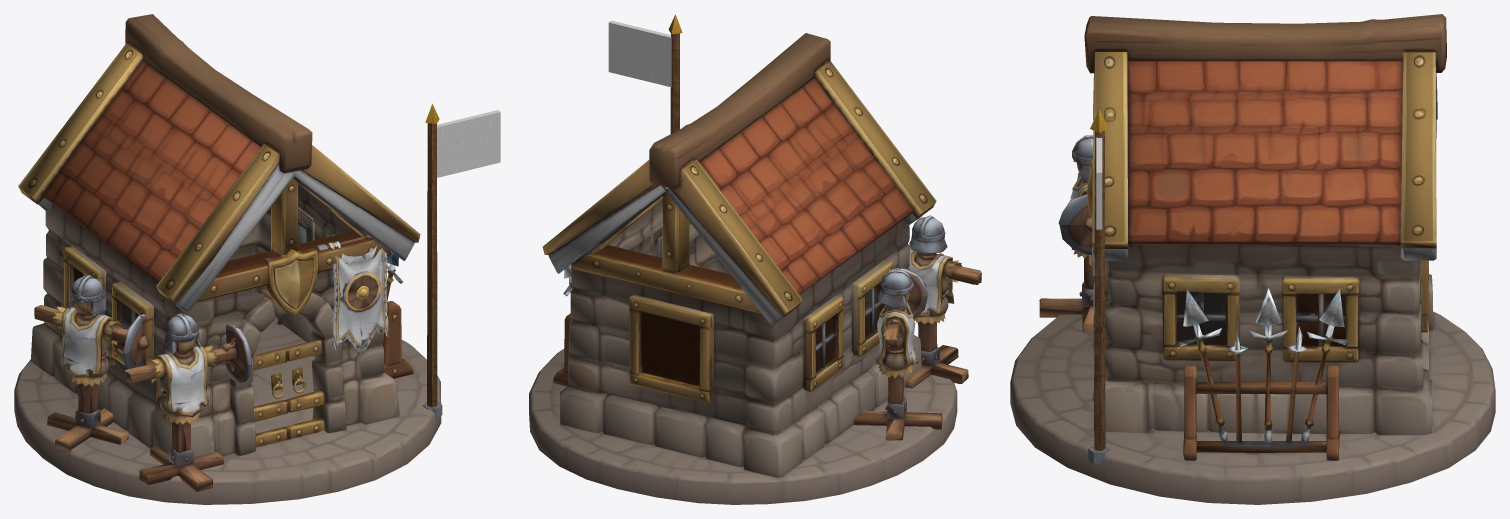
Rendered from barracks.glb.
The picture shows the model from 3 angles, left to right: view 1: azimuth 30°, elevation 25°; view 2: azimuth 150°, elevation 25°; view 3: azimuth 270°, elevation 25°; orthographic projection. The views are drawn at different scales.
Parts seen in each view (by area): view 1: barracks, addon_dummy, addon_dummy_1, addon_banner, spin_barracks, barracks_mast; view 2: barracks, addon_dummy_1, addon_dummy, spin_barracks, barracks_mast; view 3: barracks, addon_dummy, barracks_mast, spin_barracks.
Part boxes in pixels (x1=…): barracks: x1=14, y1=14, x2=441, y2=504; addon_dummy: x1=125, y1=313, x2=251, y2=491; addon_dummy_1: x1=34, y1=275, x2=149, y2=452; addon_banner: x1=316, y1=235, x2=388, y2=354; spin_barracks: x1=437, y1=110, x2=500, y2=177; barracks_mast: x1=422, y1=103, x2=442, y2=418; barracks: x1=529, y1=33, x2=957, y2=504; addon_dummy_1: x1=853, y1=267, x2=942, y2=440; addon_dummy: x1=905, y1=215, x2=981, y2=388; spin_barracks: x1=608, y1=20, x2=671, y2=87; barracks_mast: x1=668, y1=14, x2=682, y2=133; barracks: x1=1010, y1=14, x2=1495, y2=504; addon_dummy: x1=1039, y1=135, x2=1093, y2=331; barracks_mast: x1=1088, y1=109, x2=1110, y2=463; spin_barracks: x1=1096, y1=137, x2=1102, y2=229.
Size of the model in its own units: 3.24 by 2.67 by 3.09.
Materials: 10 (10 with a texture image).
